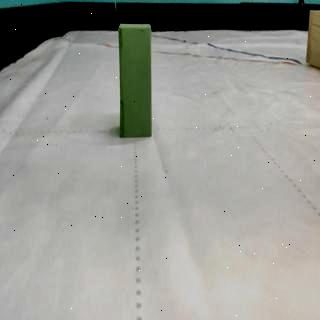greenbox: (118, 22, 154, 140)
